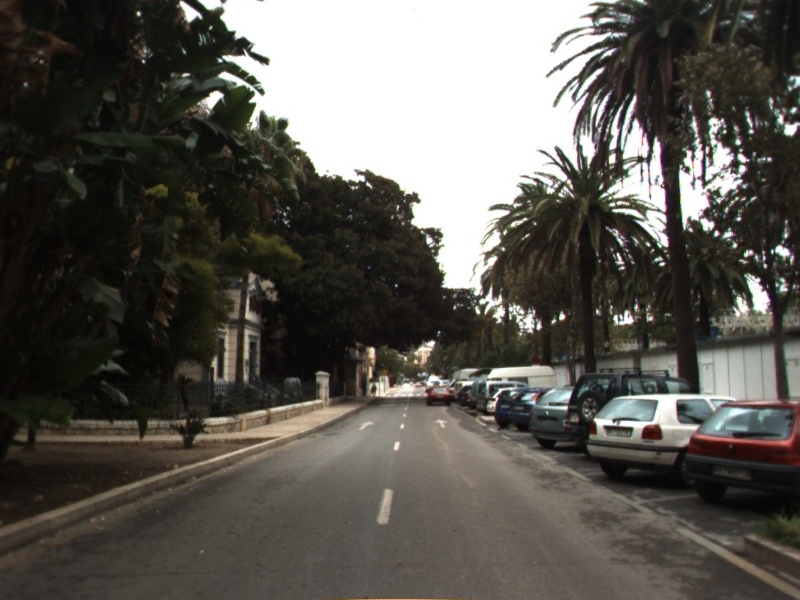STRAIGHT: (356, 418, 377, 432), (430, 417, 452, 430)
